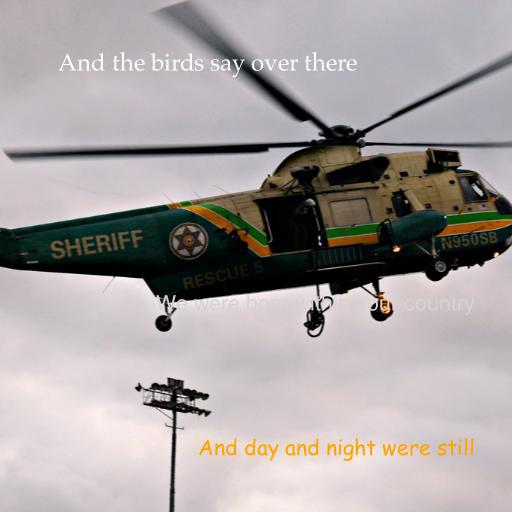Apple Chancery: (155, 295, 475, 316)
Comic Sans MS: (197, 438, 475, 462)
Palatino: (57, 51, 357, 78)
